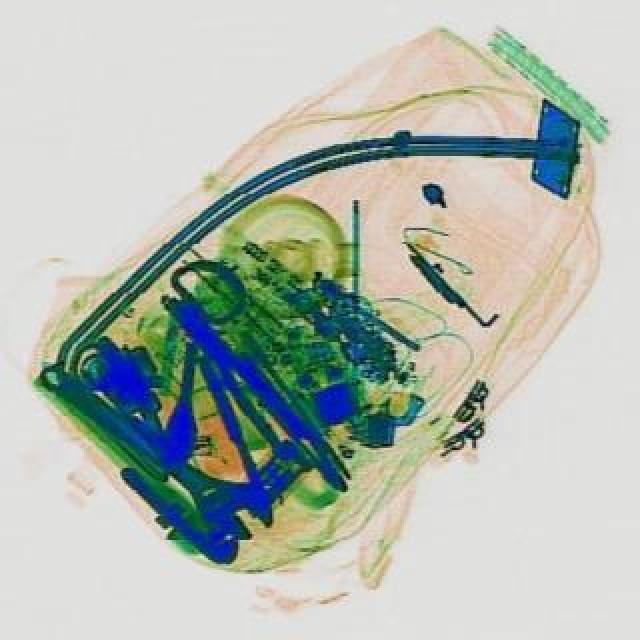scissors: (24, 336, 286, 554)
